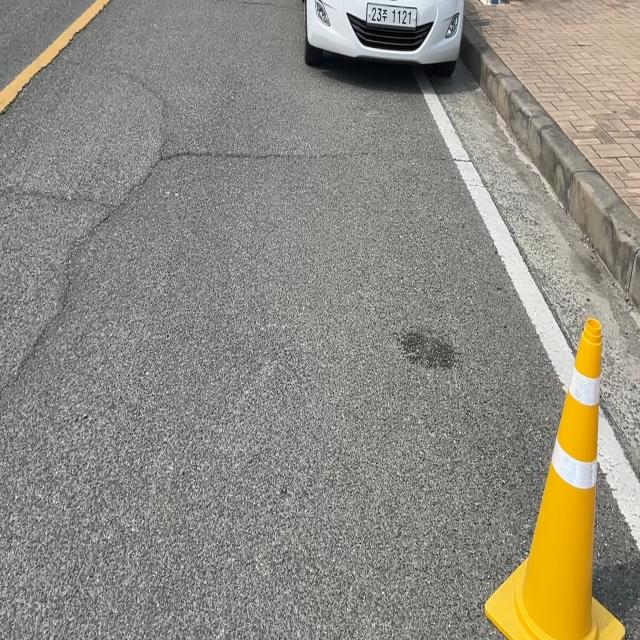y_rub: (486, 318, 627, 640)
